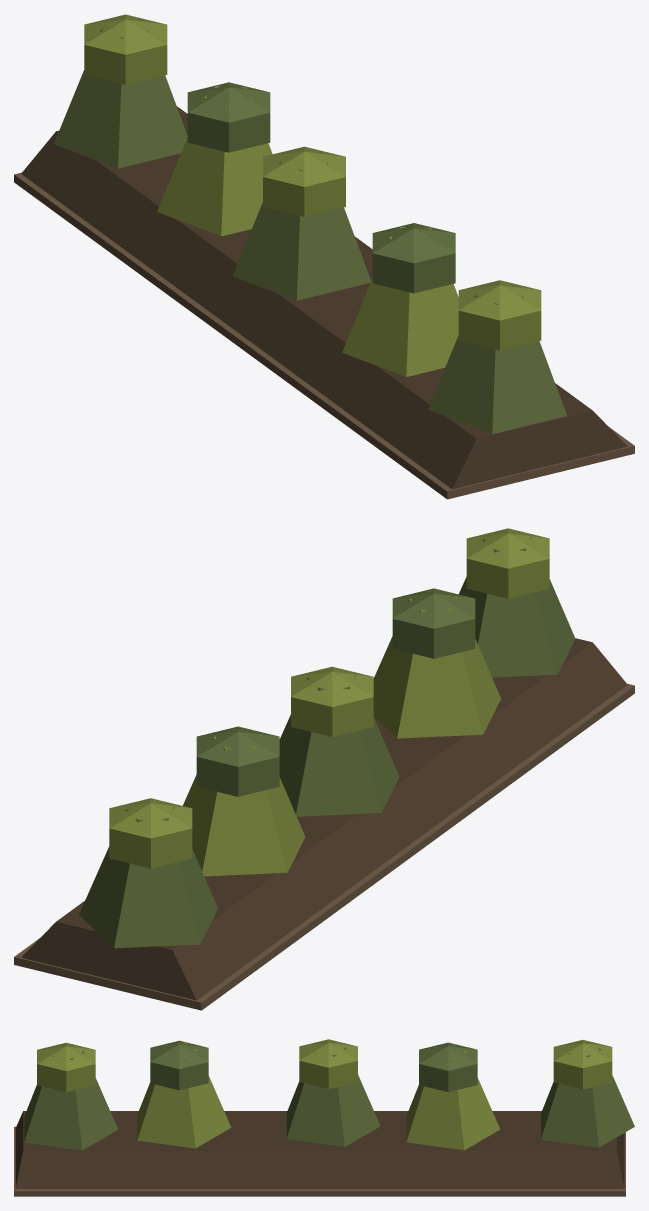
Rendered from crop_potato_s2.glb.
The picture shows the model from 3 angles, top to bottom: view 1: azimuth 30°, elevation 25°; view 2: azimuth 150°, elevation 25°; view 3: azimuth 270°, elevation 25°; orthographic projection. The views are drawn at different scales.
Visible parts, largest first — view 1: crop_potato_s2_mesh; view 2: crop_potato_s2_mesh; view 3: crop_potato_s2_mesh.
Part boxes in pixels (x1=…): crop_potato_s2_mesh: x1=14, y1=14, x2=634, y2=499; crop_potato_s2_mesh: x1=14, y1=528, x2=634, y2=1010; crop_potato_s2_mesh: x1=14, y1=1039, x2=634, y2=1196.
Bounding box in the file's own units: 0.5 × 0.4205 × 2.03.
